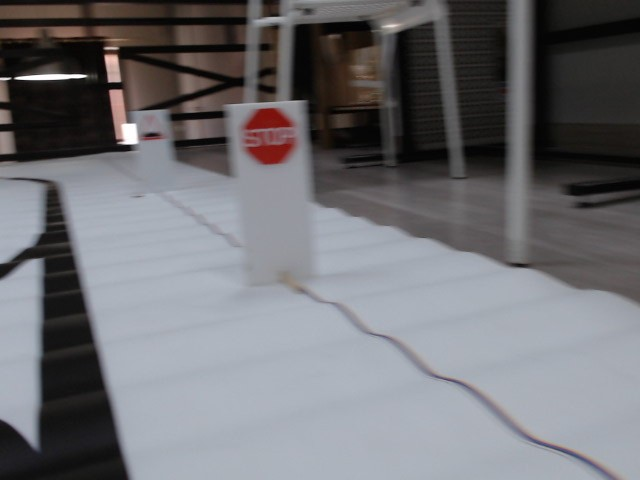Nerov: (139, 113, 166, 141)
Stop: (244, 108, 297, 163)
